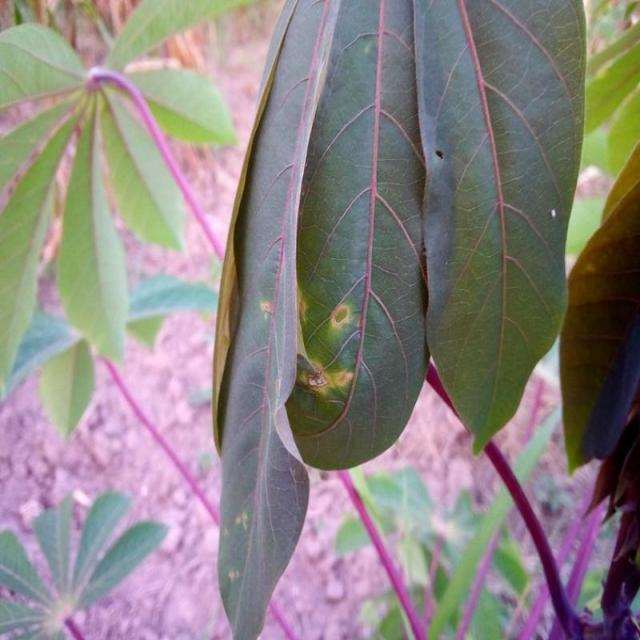cassava leaf: (210, 0, 589, 638), (413, 0, 588, 455)
